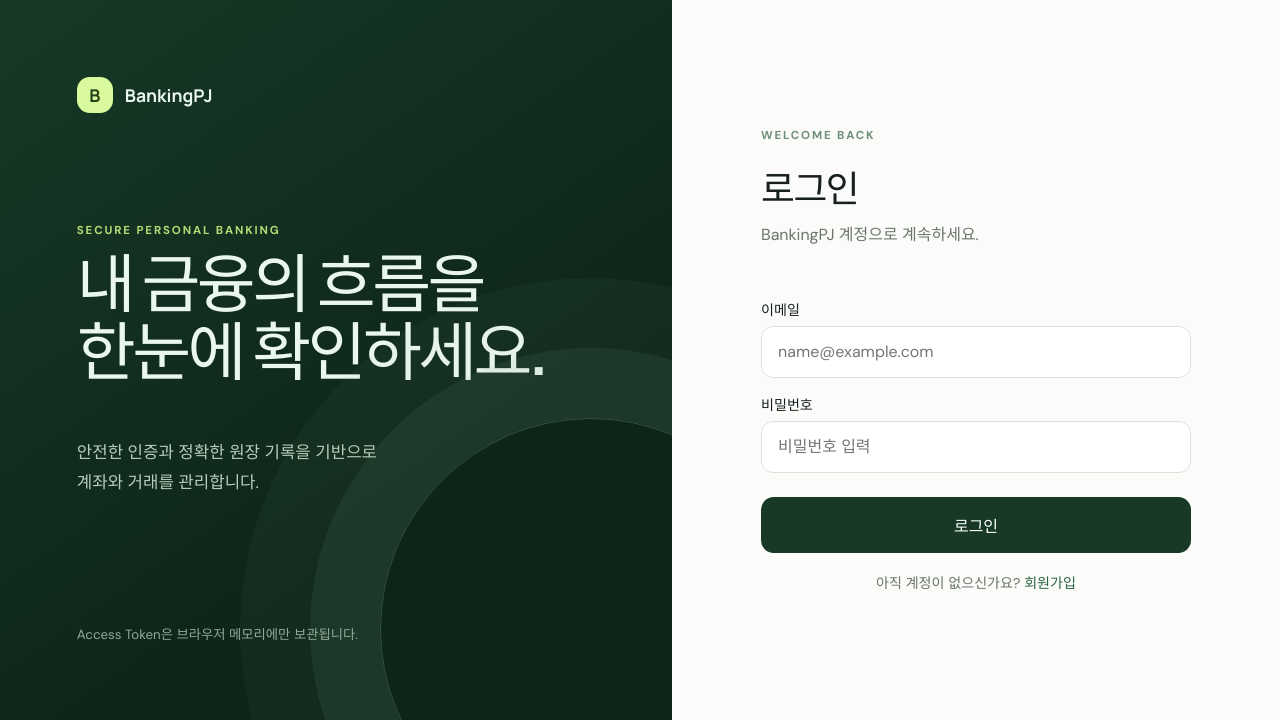
it: Frontend 로그인 및 인증 흐름 › 로그인 실패 시 안전한 오류 메시지를 표시한다
This screenshot has width=1280, height=720.
Expected: the heading "로그인" is shown, [761,162,858,212]
Type "user@example.com" into the field labelled "이메일" at (976, 352), box [761,326,1191,378]
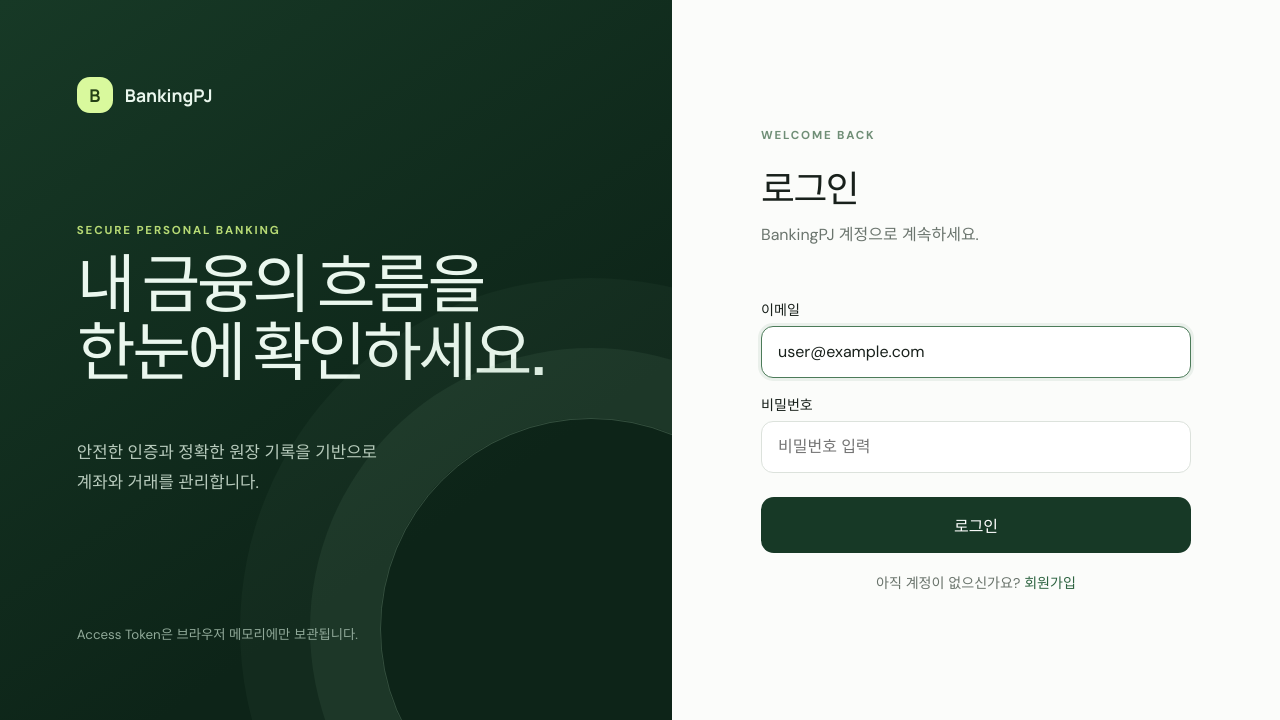
Type "password123!" into the password field labelled "비밀번호" at (976, 447), box [761,421,1191,473]
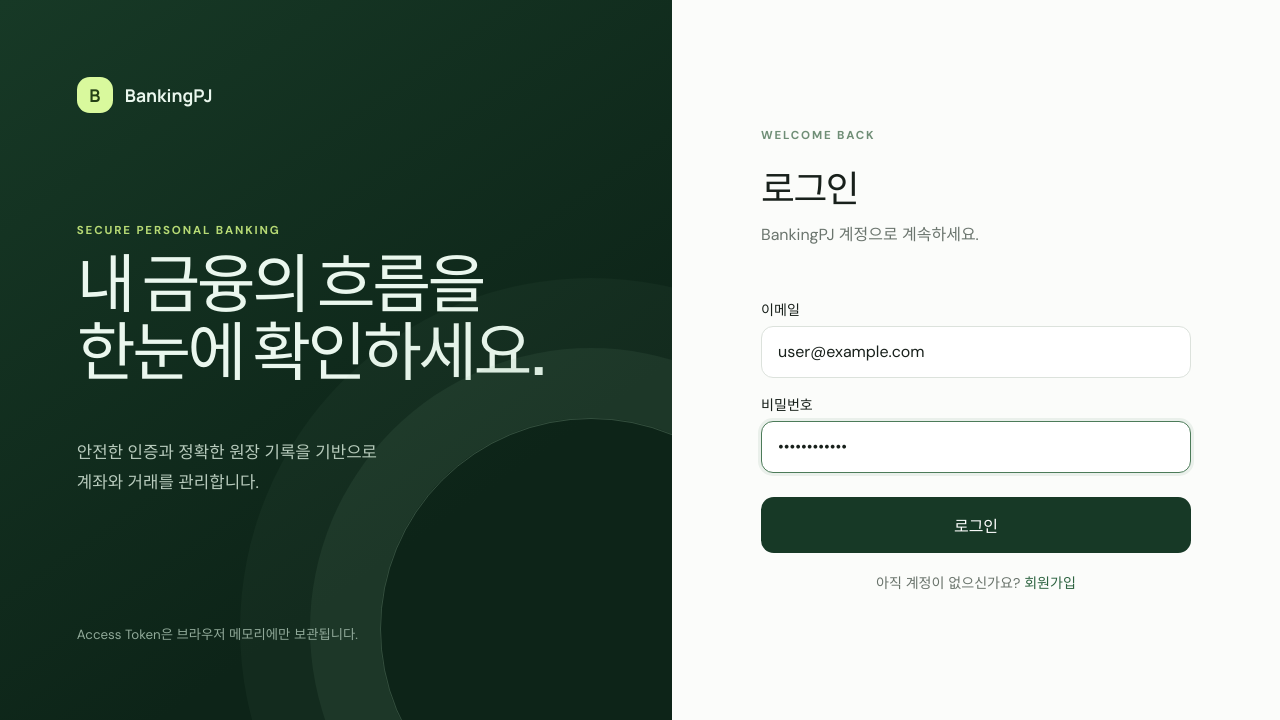
Click the button "로그인" at (976, 525), box [761,497,1191,553]
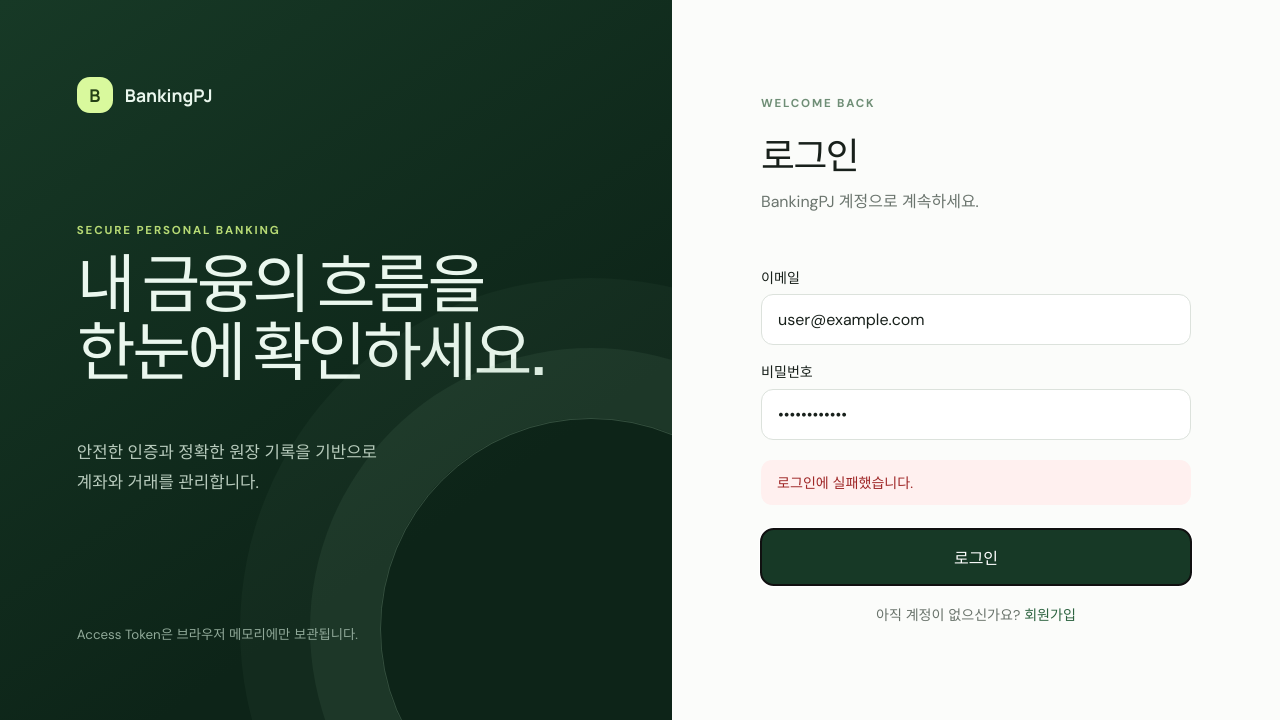
Expected: the message reads "로그인에 실패했습니다.", [777,474,913,492]
